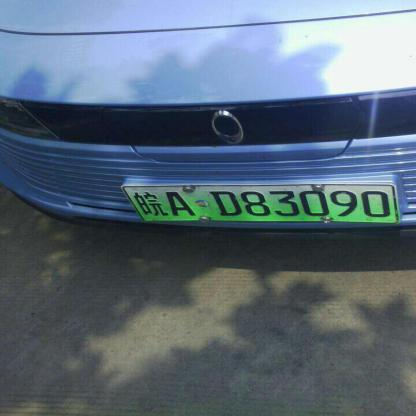lp: (121, 184, 400, 222)
